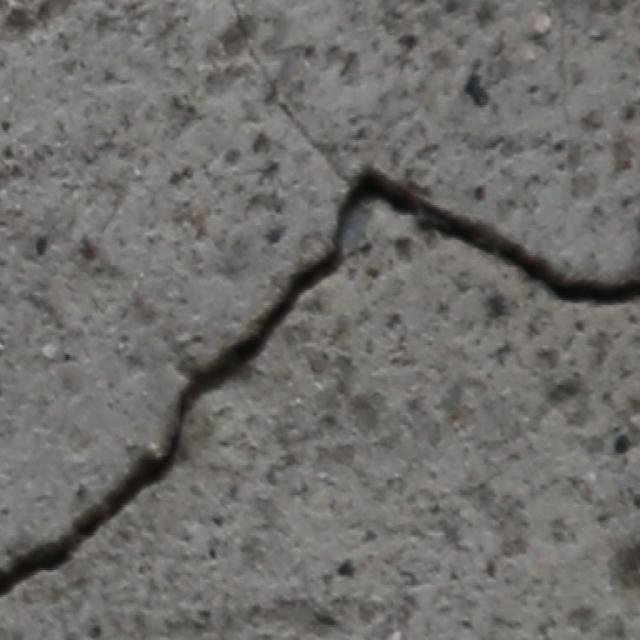crack: (0, 228, 339, 606), (340, 158, 639, 309), (229, 1, 351, 191)
